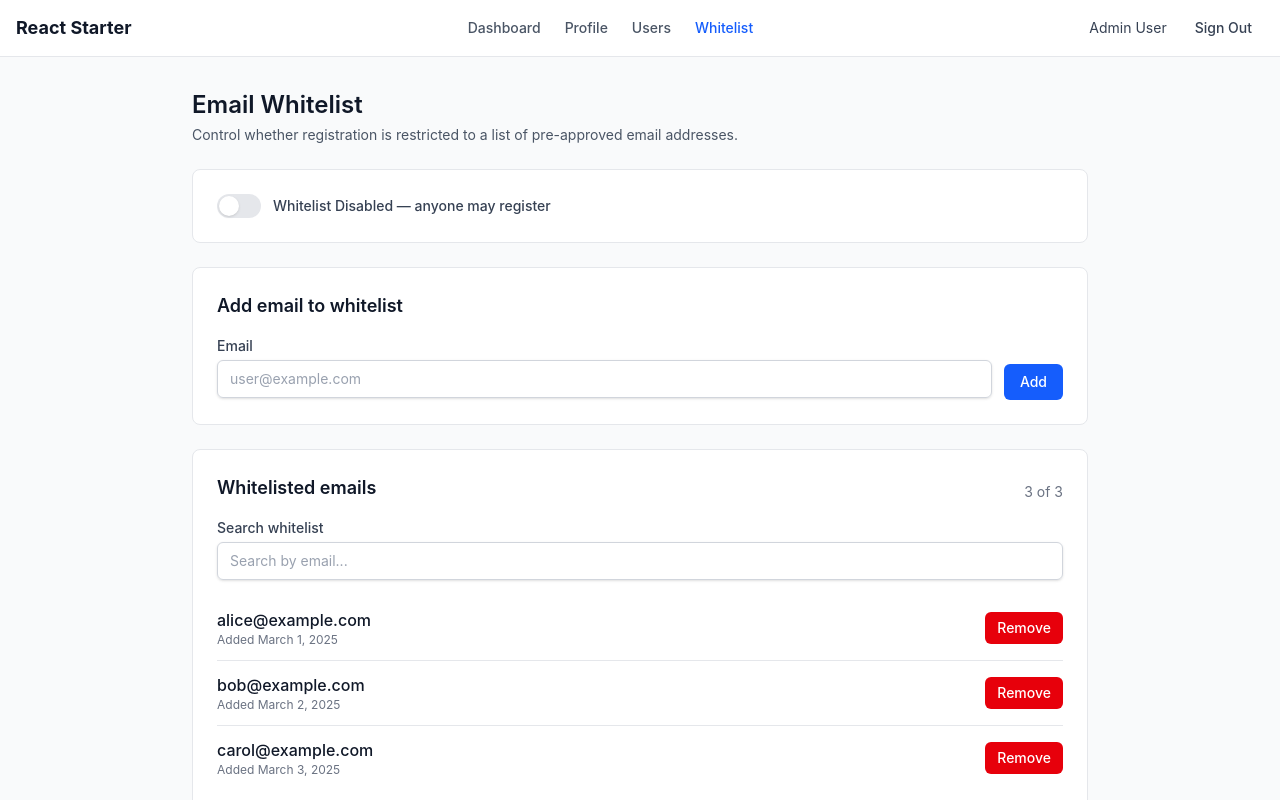
WhitelistPage › does not show session-invalidation warning when whitelist is disabled
The image size is (1280, 800).
Expected: the text "alice@example.com" is shown, [217,608,371,632]
Click the button "Remove" in the row of "alice@example.com" at point(1024, 628), box [985,612,1063,644]
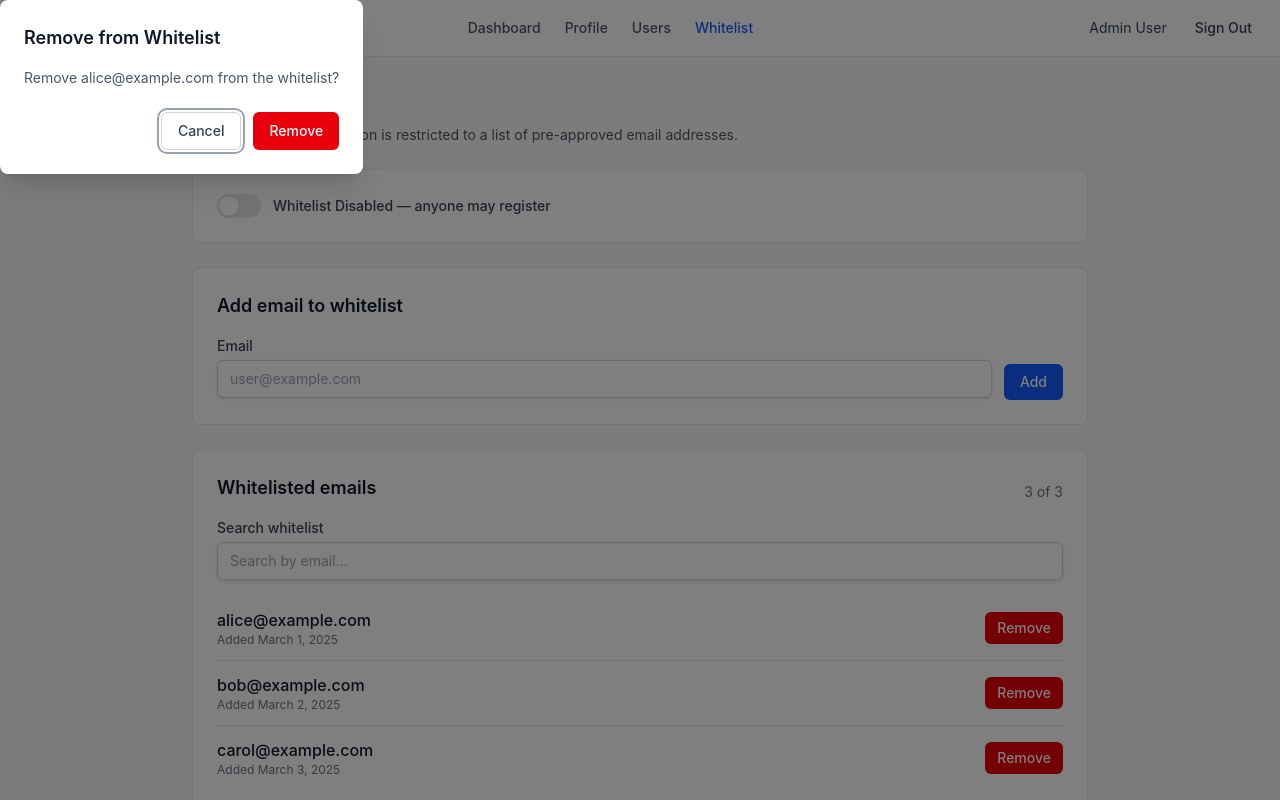
Expected: the dialog does not show "invalidate any active sessions", [0,0,363,174]
Expected: the dialog is shown, [0,0,363,174]
Expected: the dialog shows "alice@example.com", [24,69,339,86]
